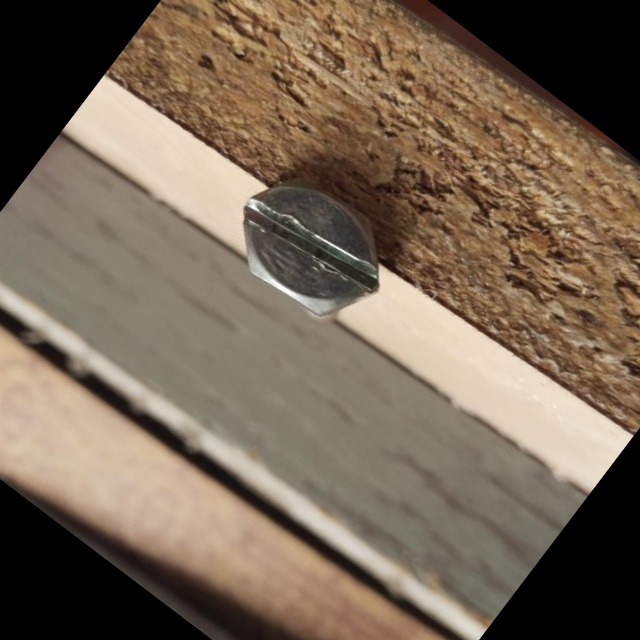duz: (211, 150, 411, 342)
